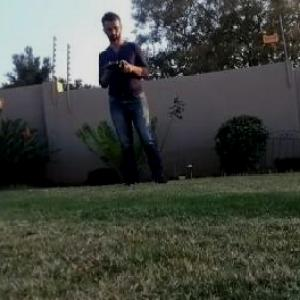follow: (96, 1, 176, 191)
